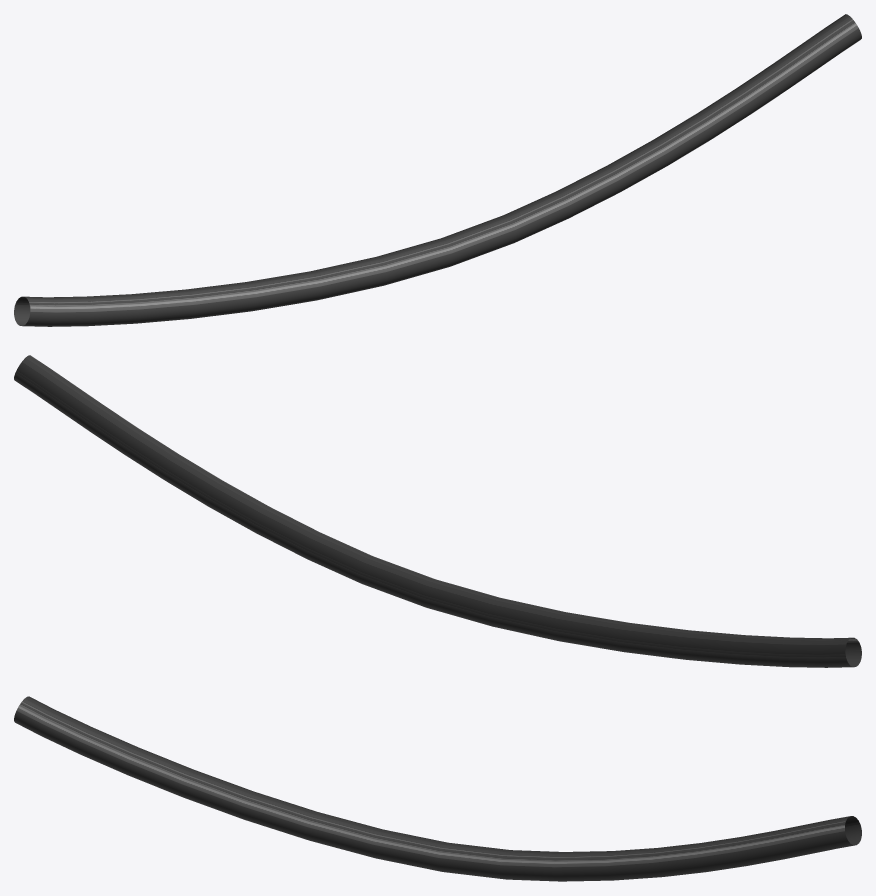
The model's file is SM_Wire_Big_Black.fbx.
3 renders of one model, top to bottom at view 1: azimuth 30°, elevation 25°; view 2: azimuth 150°, elevation 25°; view 3: azimuth 330°, elevation 25°, orthographic.
Parts seen in each view (by area): view 1: Sm_Wire_Big_Black; view 2: Sm_Wire_Big_Black; view 3: Sm_Wire_Big_Black.
Part boxes in pixels (box(x1,y1,x2,y2)): Sm_Wire_Big_Black: box(14, 14, 861, 326); Sm_Wire_Big_Black: box(14, 355, 861, 667); Sm_Wire_Big_Black: box(14, 696, 861, 881).
Bounding box in the file's own units: 7.76 × 1.37 × 44.05.
Materials: 1 (1 with a texture image).
